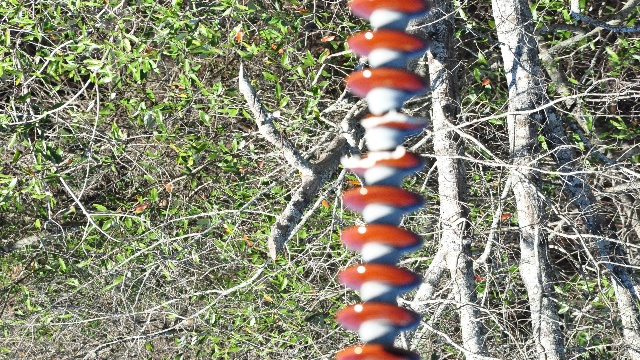broken_local: (340, 145, 405, 169), (361, 110, 430, 128)
insulator_unspecified: (337, 1, 431, 359)
